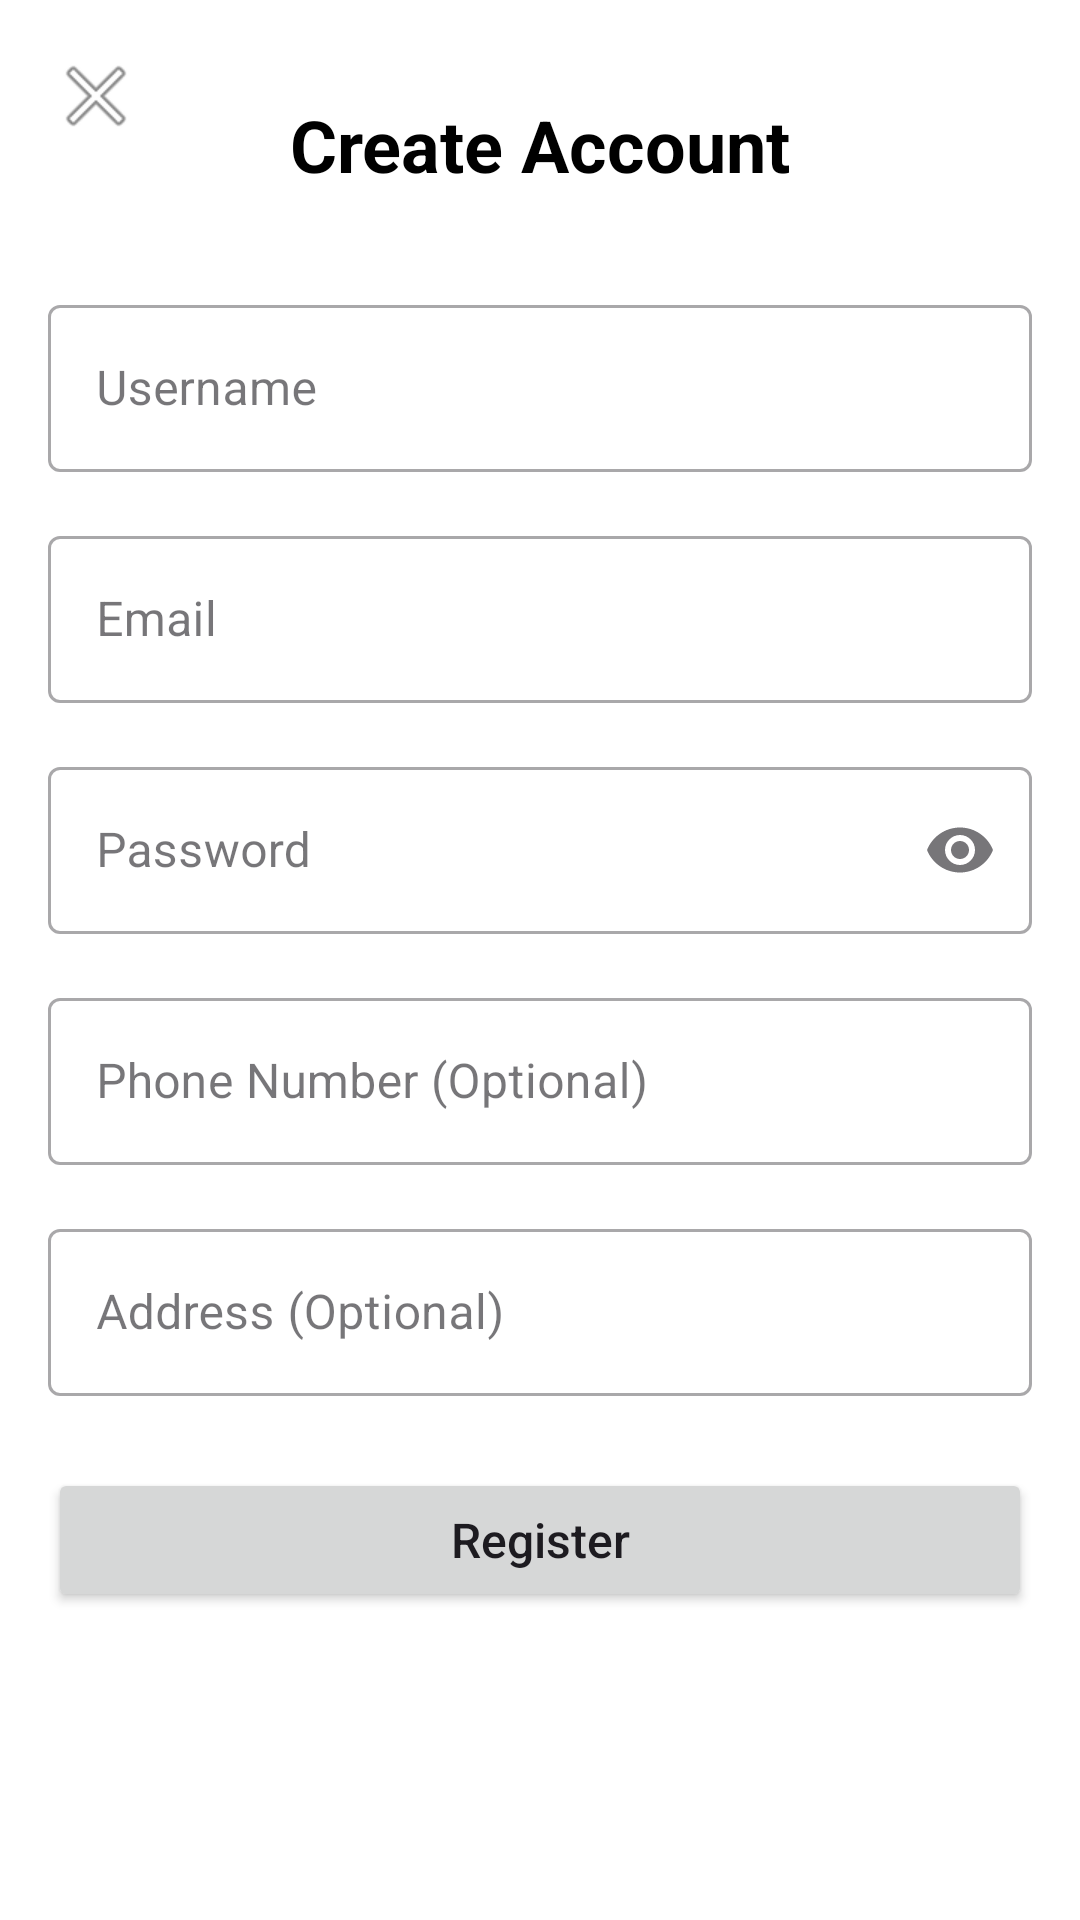

Icon click points for this 1080px×1920px phone screenshot, format point (x, y):
Back: point (96, 96)
